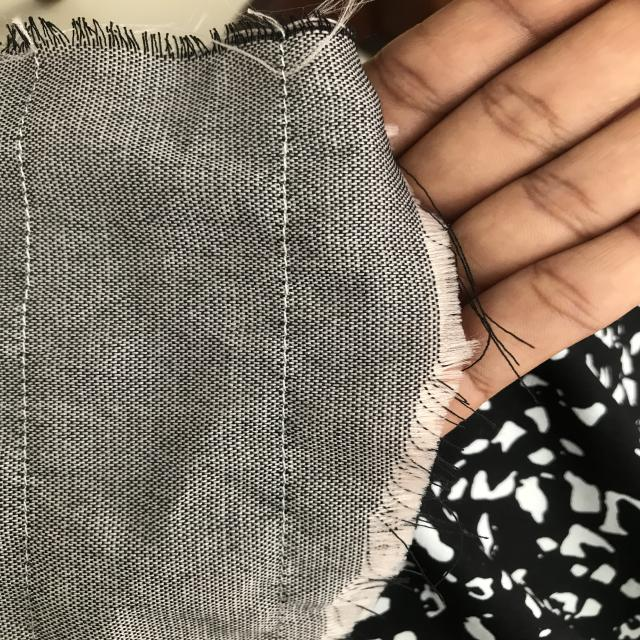good: (269, 237, 305, 461), (7, 314, 40, 486)
